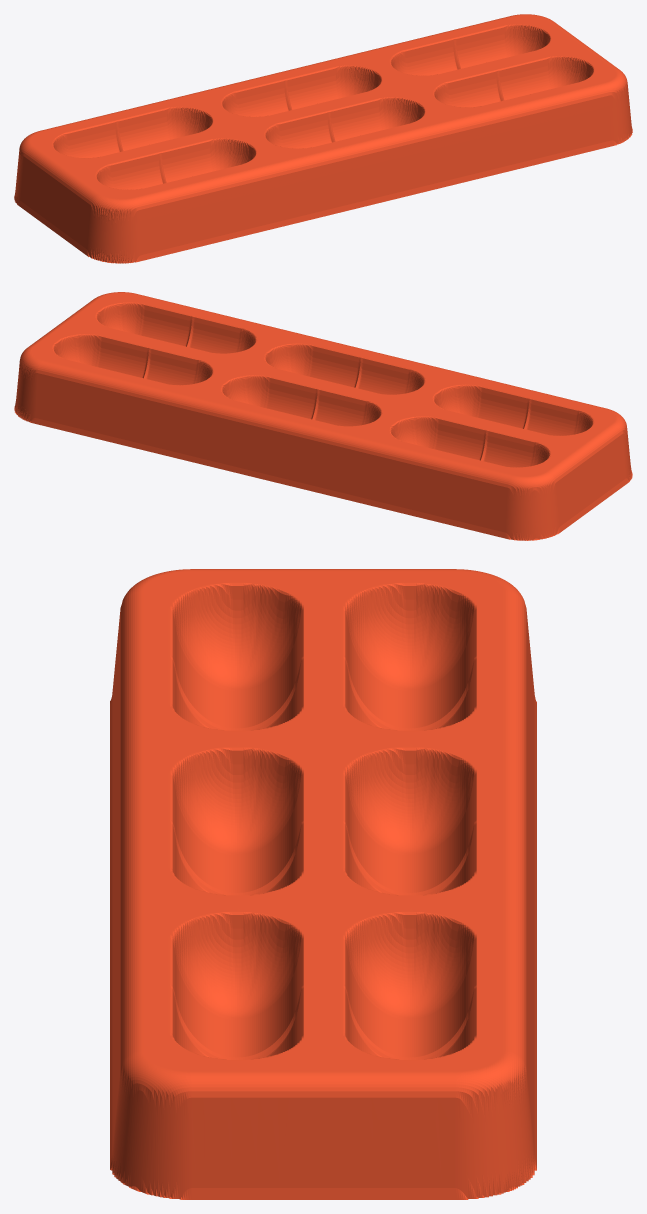
File: mold.glb
3 views of the same model, one above another, from view 1: azimuth 30°, elevation 25°; view 2: azimuth 150°, elevation 25°; view 3: azimuth 270°, elevation 25° (orthographic). The views are drawn at different scales.
Parts seen in each view (by area): view 1: geometry_0; view 2: geometry_0; view 3: geometry_0.
Part boxes in pixels (x1,y1,x2,y2): geometry_0: (14, 14, 632, 263); geometry_0: (14, 292, 632, 540); geometry_0: (110, 569, 536, 1199).
Size of the model in its own units: 0.1387 by 0.014 by 0.0474.
